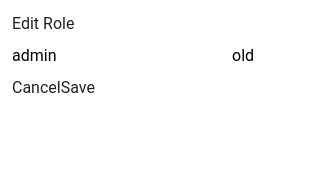
Test: RoleCreateDialog interactions › handleSubmit edit path: server error when updateRole returns false
Replace the text in the 1st field with class "stub-textfield" with "renamed" at (122, 56), box [12,44,232,68]
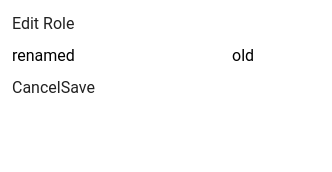
Click the button with class "stub-btn" showing "Save" at (78, 88), box [61,76,95,100]
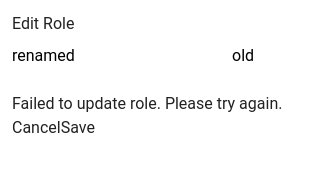
Result: the text "Failed to update role" is shown at [12,94,282,113]
